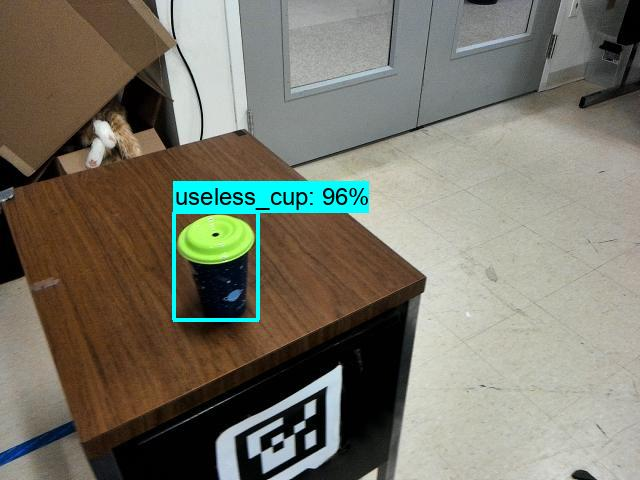useless_cup: (175, 210, 260, 320)
